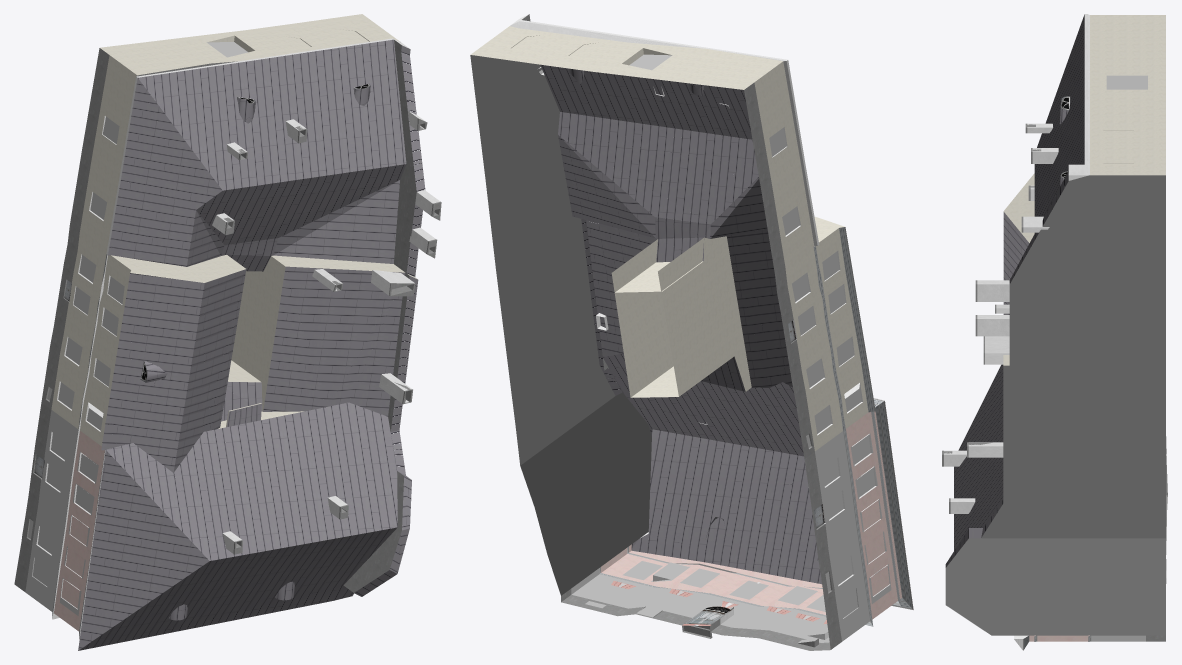
File: Tolli_8-origo.obj
The picture shows the model from 3 angles, left to right: view 1: azimuth 30°, elevation 25°; view 2: azimuth 150°, elevation 25°; view 3: azimuth 270°, elevation 25°; orthographic projection. The views are drawn at different scales.
Parts seen in each view (by area): view 1: Tolli_8; view 2: Tolli_8; view 3: Tolli_8.
Part boxes in pixels (<box>): Tolli_8: <box>14,14,441,650</box>; Tolli_8: <box>470,14,913,650</box>; Tolli_8: <box>942,14,1167,650</box>.
Bounding box in the file's own units: 30.56 × 44.5 × 16.68.
